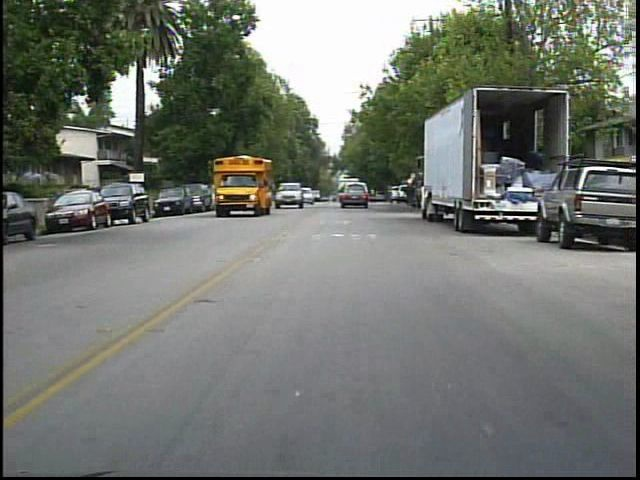person: (400, 175, 421, 219)
